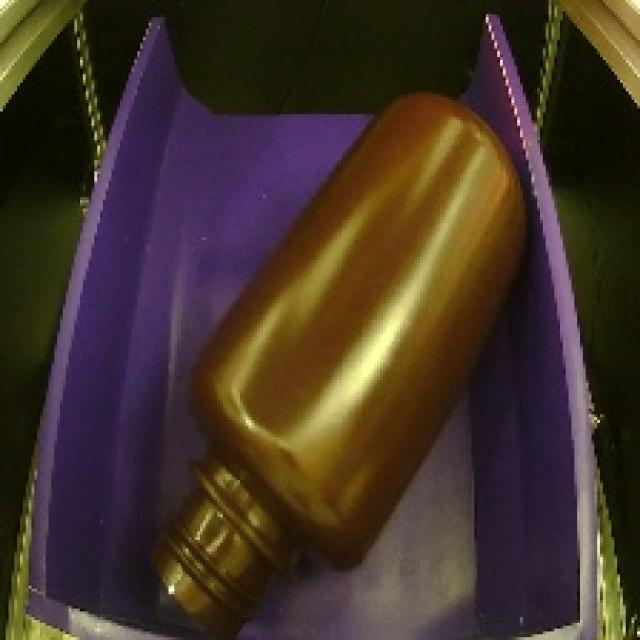plastic: (127, 75, 546, 640)
